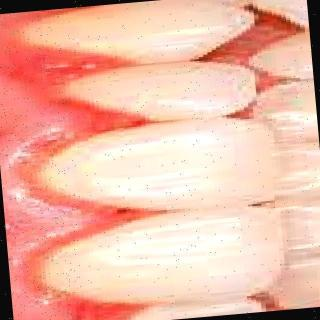Gum Swelling: (7, 12, 142, 319)
